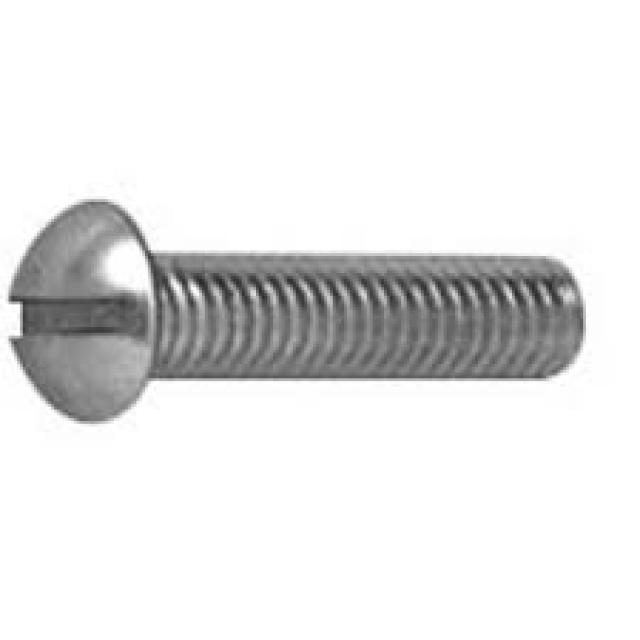Screw: (9, 199, 589, 424)
